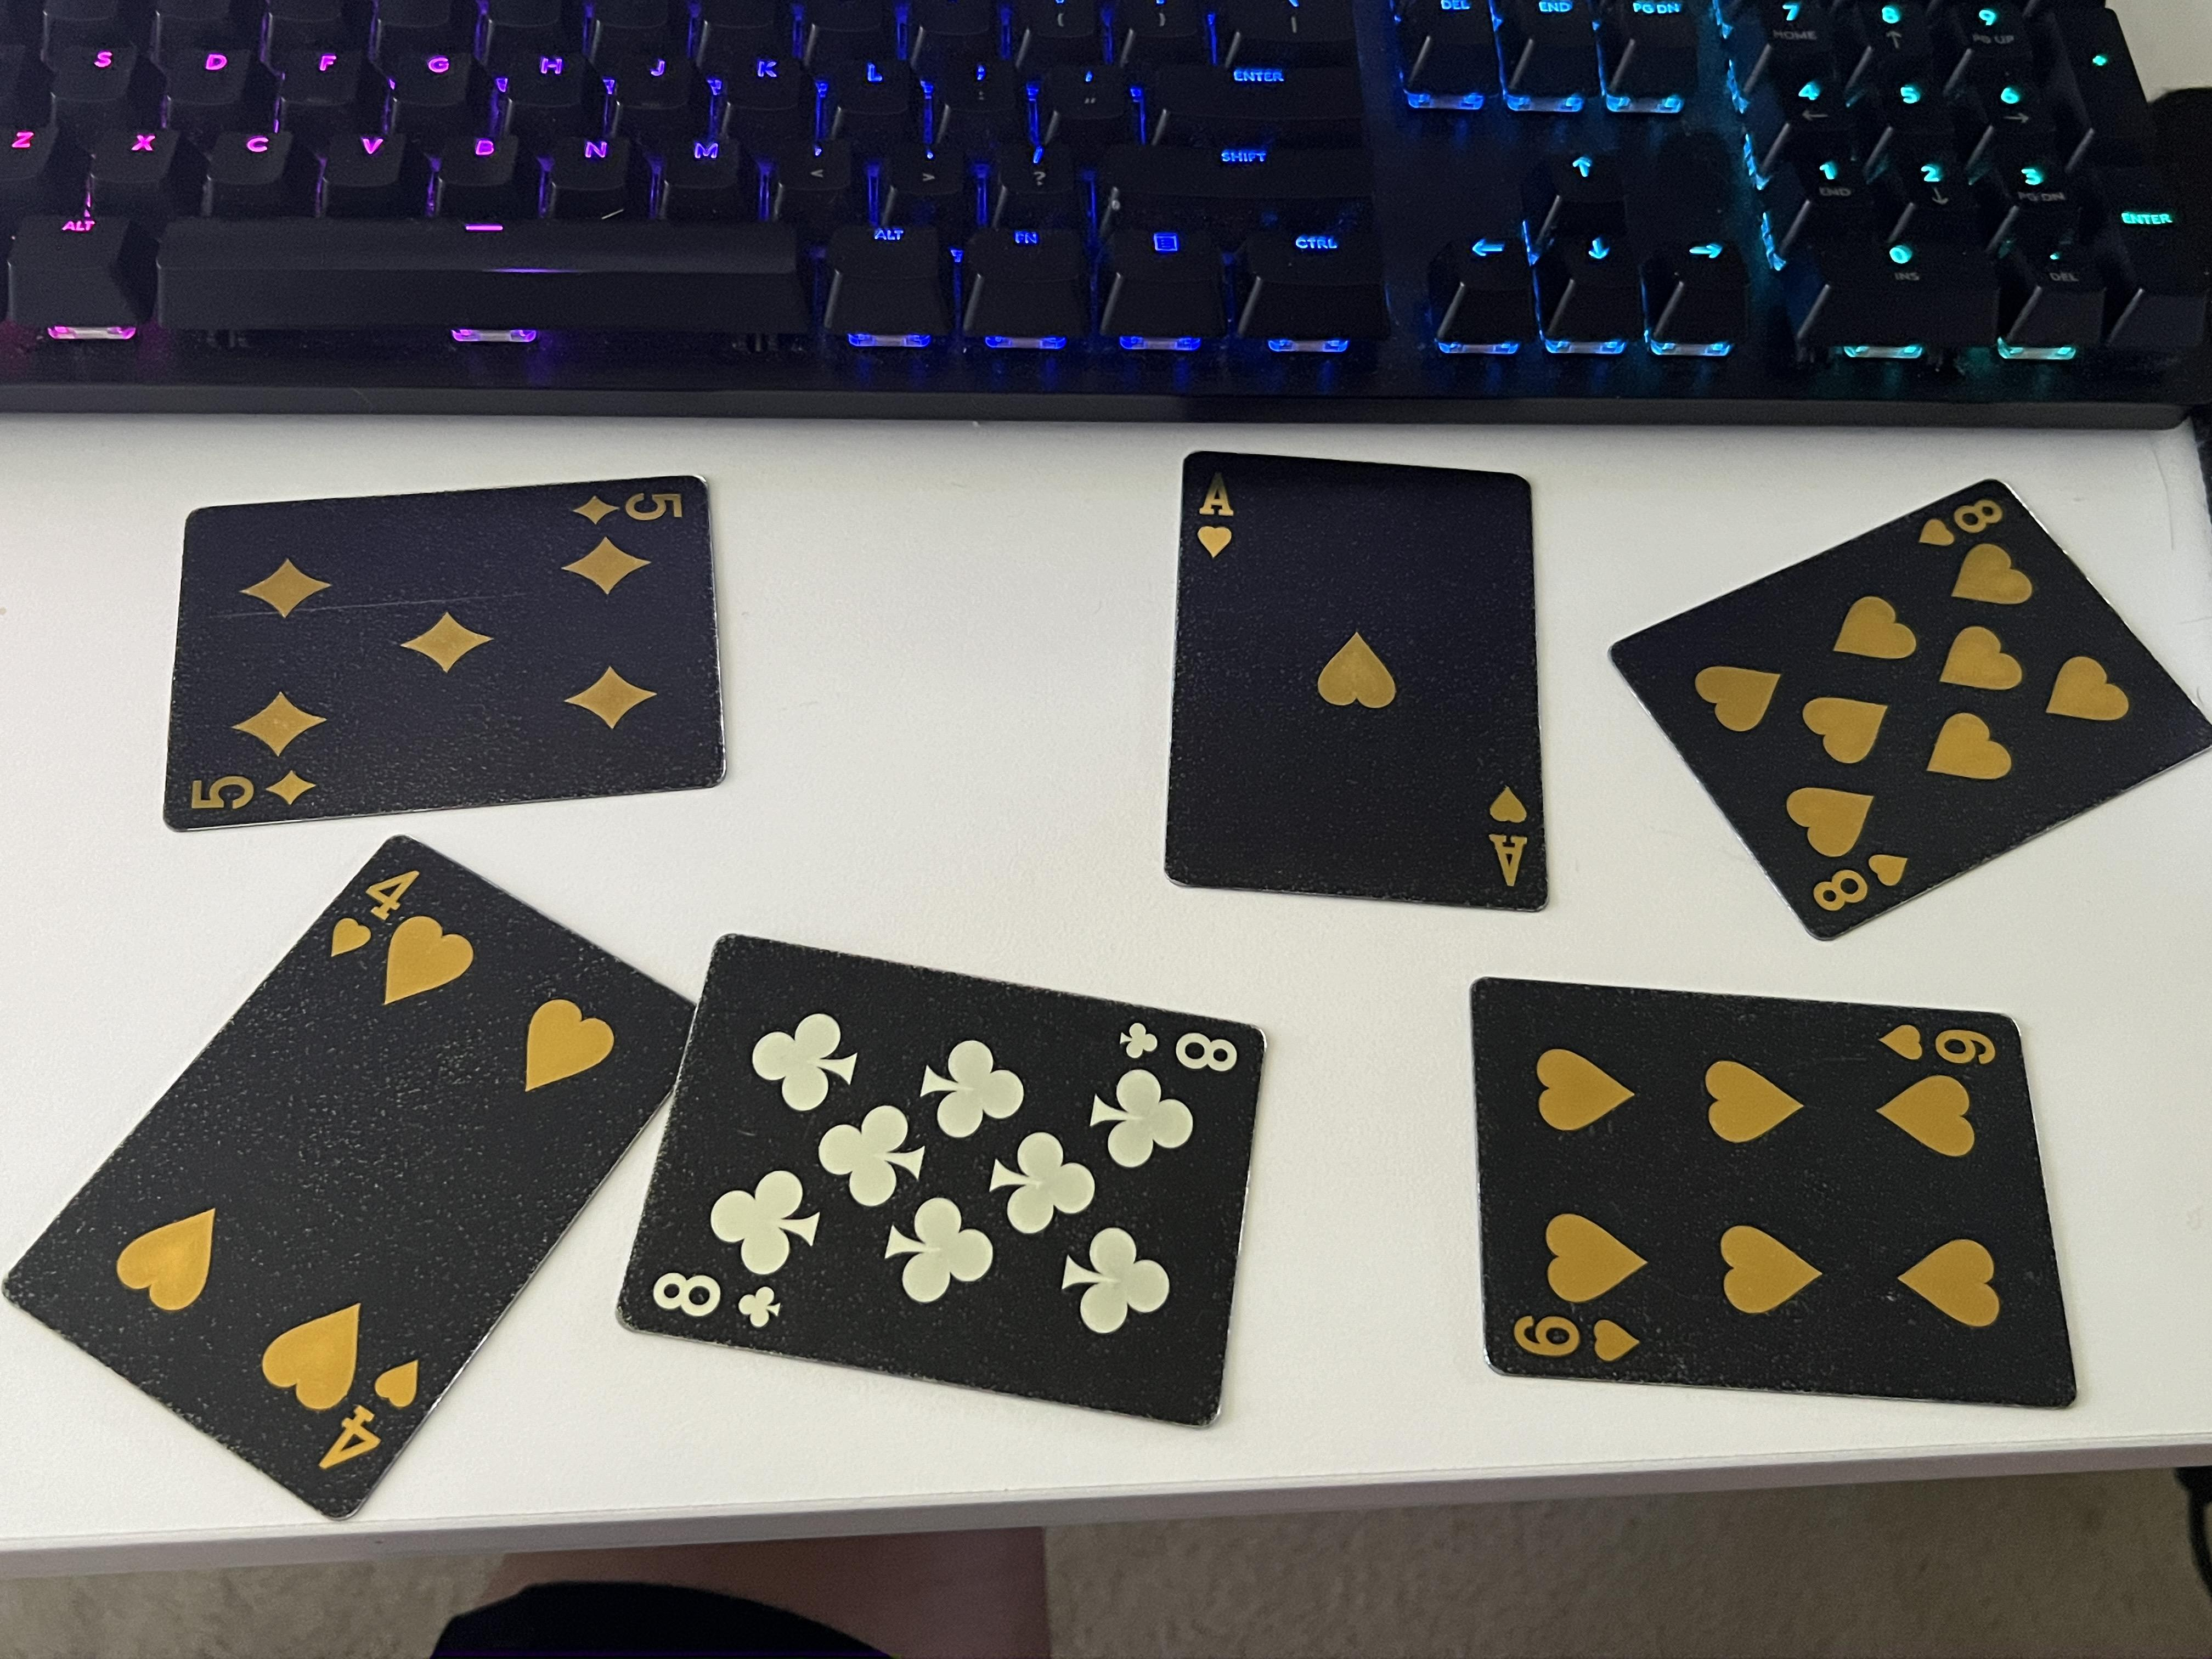4H: (237, 239, 416, 321), (918, 237, 1076, 315)
5D: (1122, 134, 1202, 237), (1498, 425, 1573, 514)
6H: (390, 1126, 465, 1236), (787, 1406, 850, 1502)
8C: (428, 481, 512, 587), (780, 835, 852, 936)
8H: (974, 1358, 1092, 1434), (1475, 1432, 1562, 1514)
AH: (1024, 1108, 1177, 1148), (1463, 890, 1595, 931)
